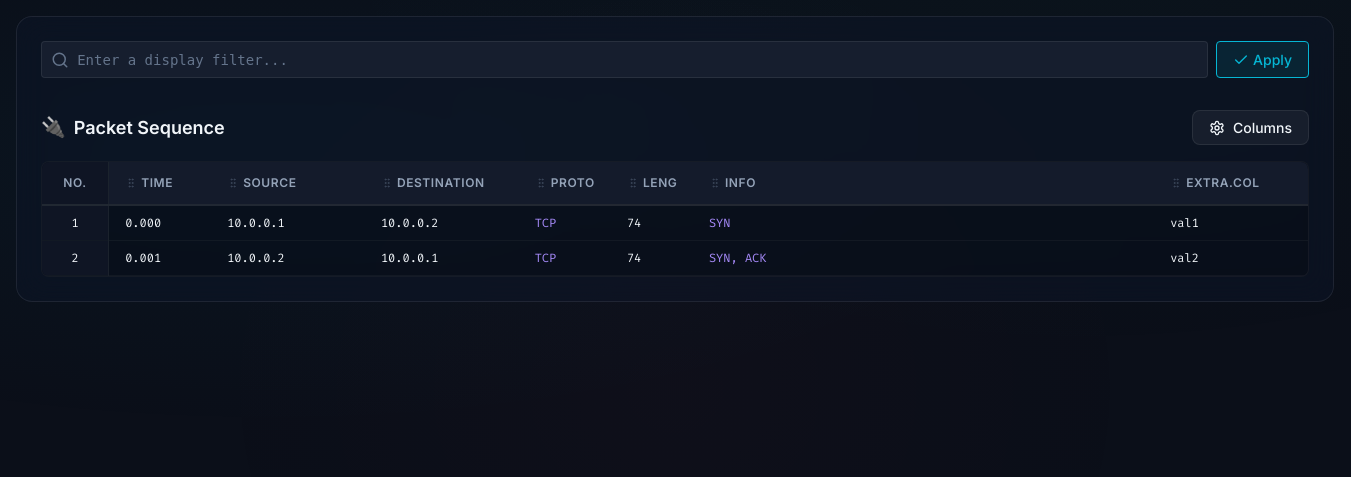
Test: FramesTable › locks the packet number checkbox as disabled and checked
The image size is (1351, 477).
What coordinates should you click on to do the following:
click the button with class "control-btn"
I would click on:
 (1250, 128)
Its box is [1192,110,1309,145].
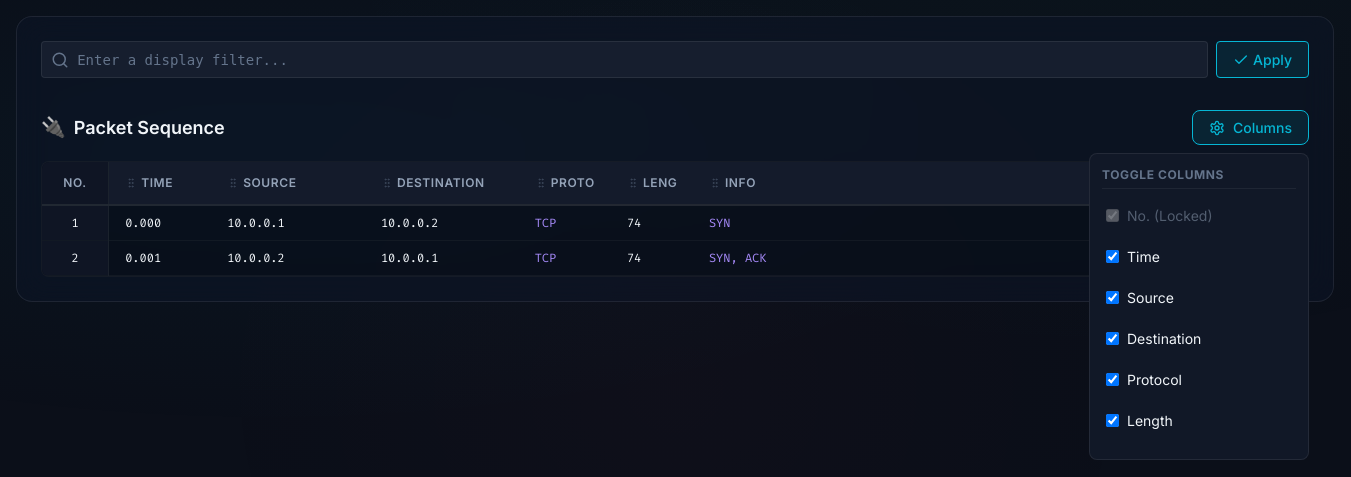
Now the checkbox labelled "No. (Locked)" is checked, box [1106,209,1119,222]
